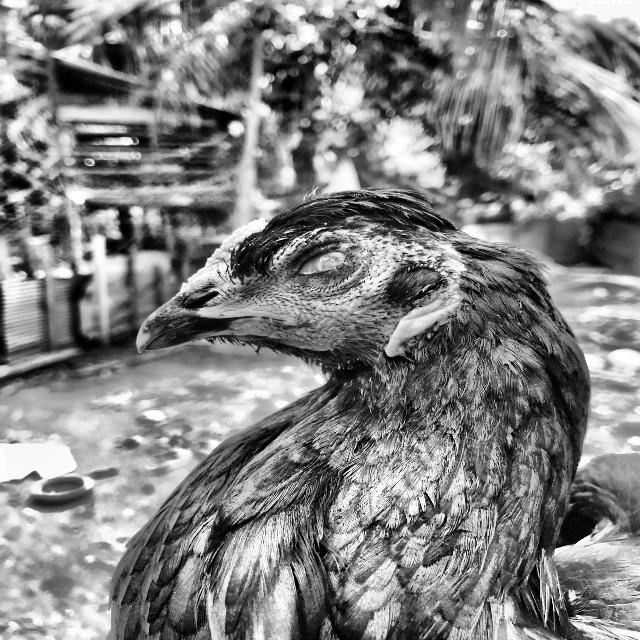Coryza: (98, 151, 640, 640)
